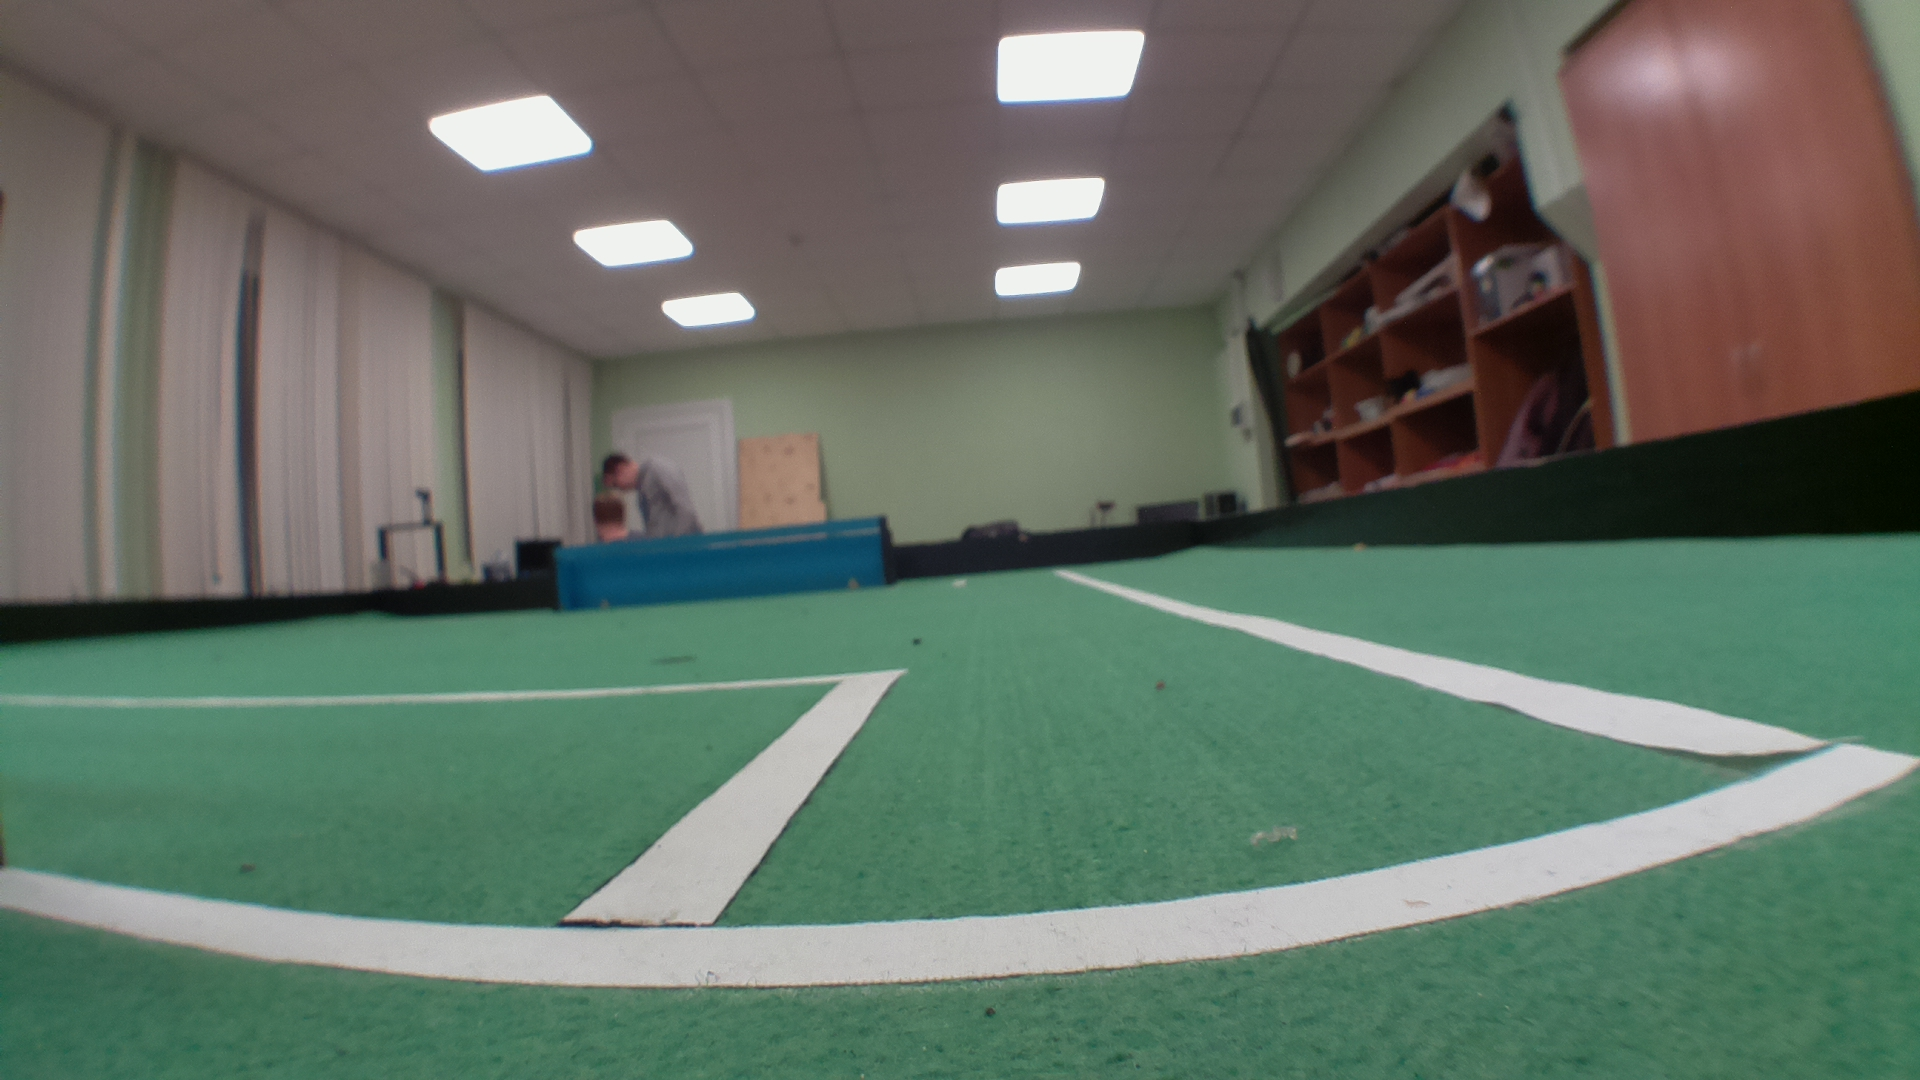BlueGoal: (556, 516, 884, 611)
